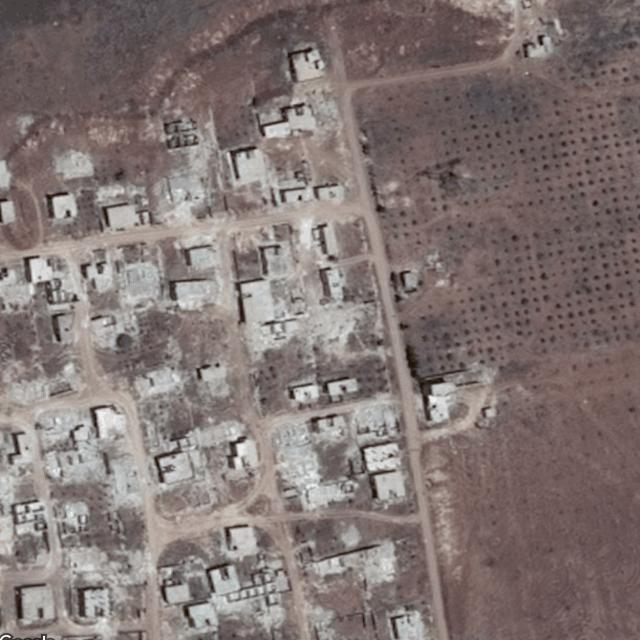damaged_building: (36, 407, 142, 505), (269, 420, 359, 508), (88, 260, 160, 346), (64, 546, 130, 634), (241, 308, 320, 364), (148, 163, 212, 224), (338, 544, 397, 587), (128, 362, 195, 398)
